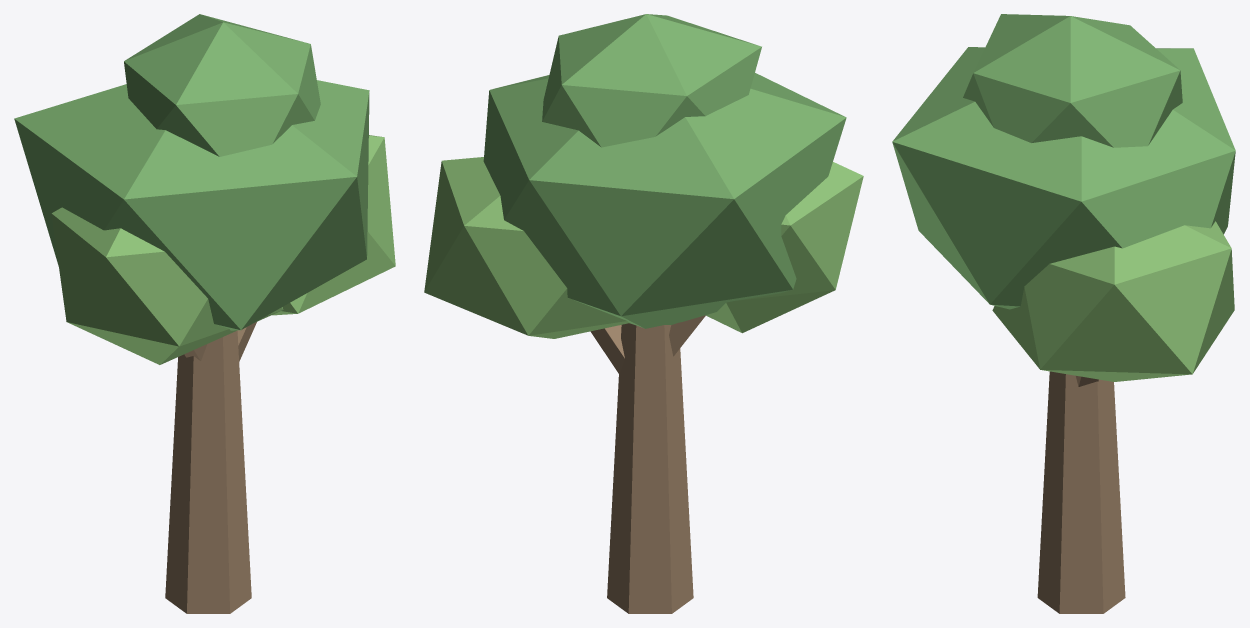
Rendered from tree_round.fbx.
3 renders of one model, left to right at view 1: azimuth 30°, elevation 25°; view 2: azimuth 150°, elevation 25°; view 3: azimuth 270°, elevation 25°, orthographic.
Visible parts, largest first — view 1: tree_round; view 2: tree_round; view 3: tree_round.
Part boxes in pixels (x1,y1,x2,y2): tree_round: [14, 14, 395, 613]; tree_round: [424, 14, 863, 613]; tree_round: [892, 14, 1235, 613].
Size of the model in its own units: 0.7598 by 1.18 by 0.6253.
